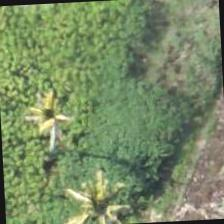Kelapa_Sawit: (2, 72, 97, 167), (50, 160, 144, 223)
